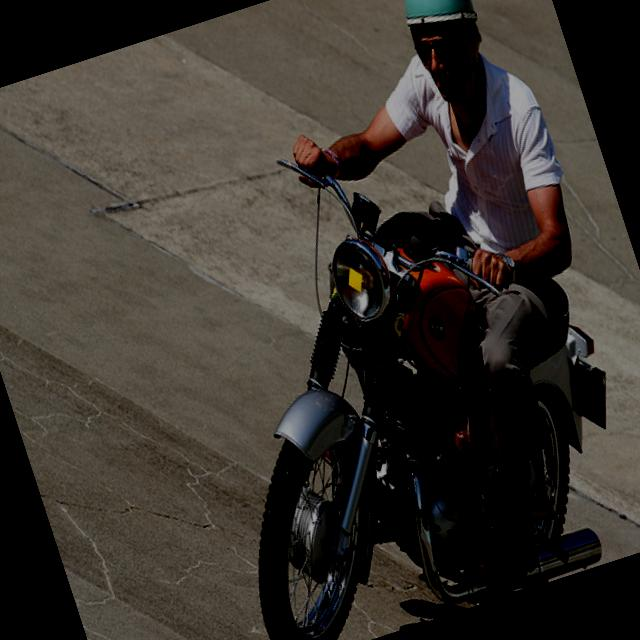Vehicle: (135, 97, 640, 640)
